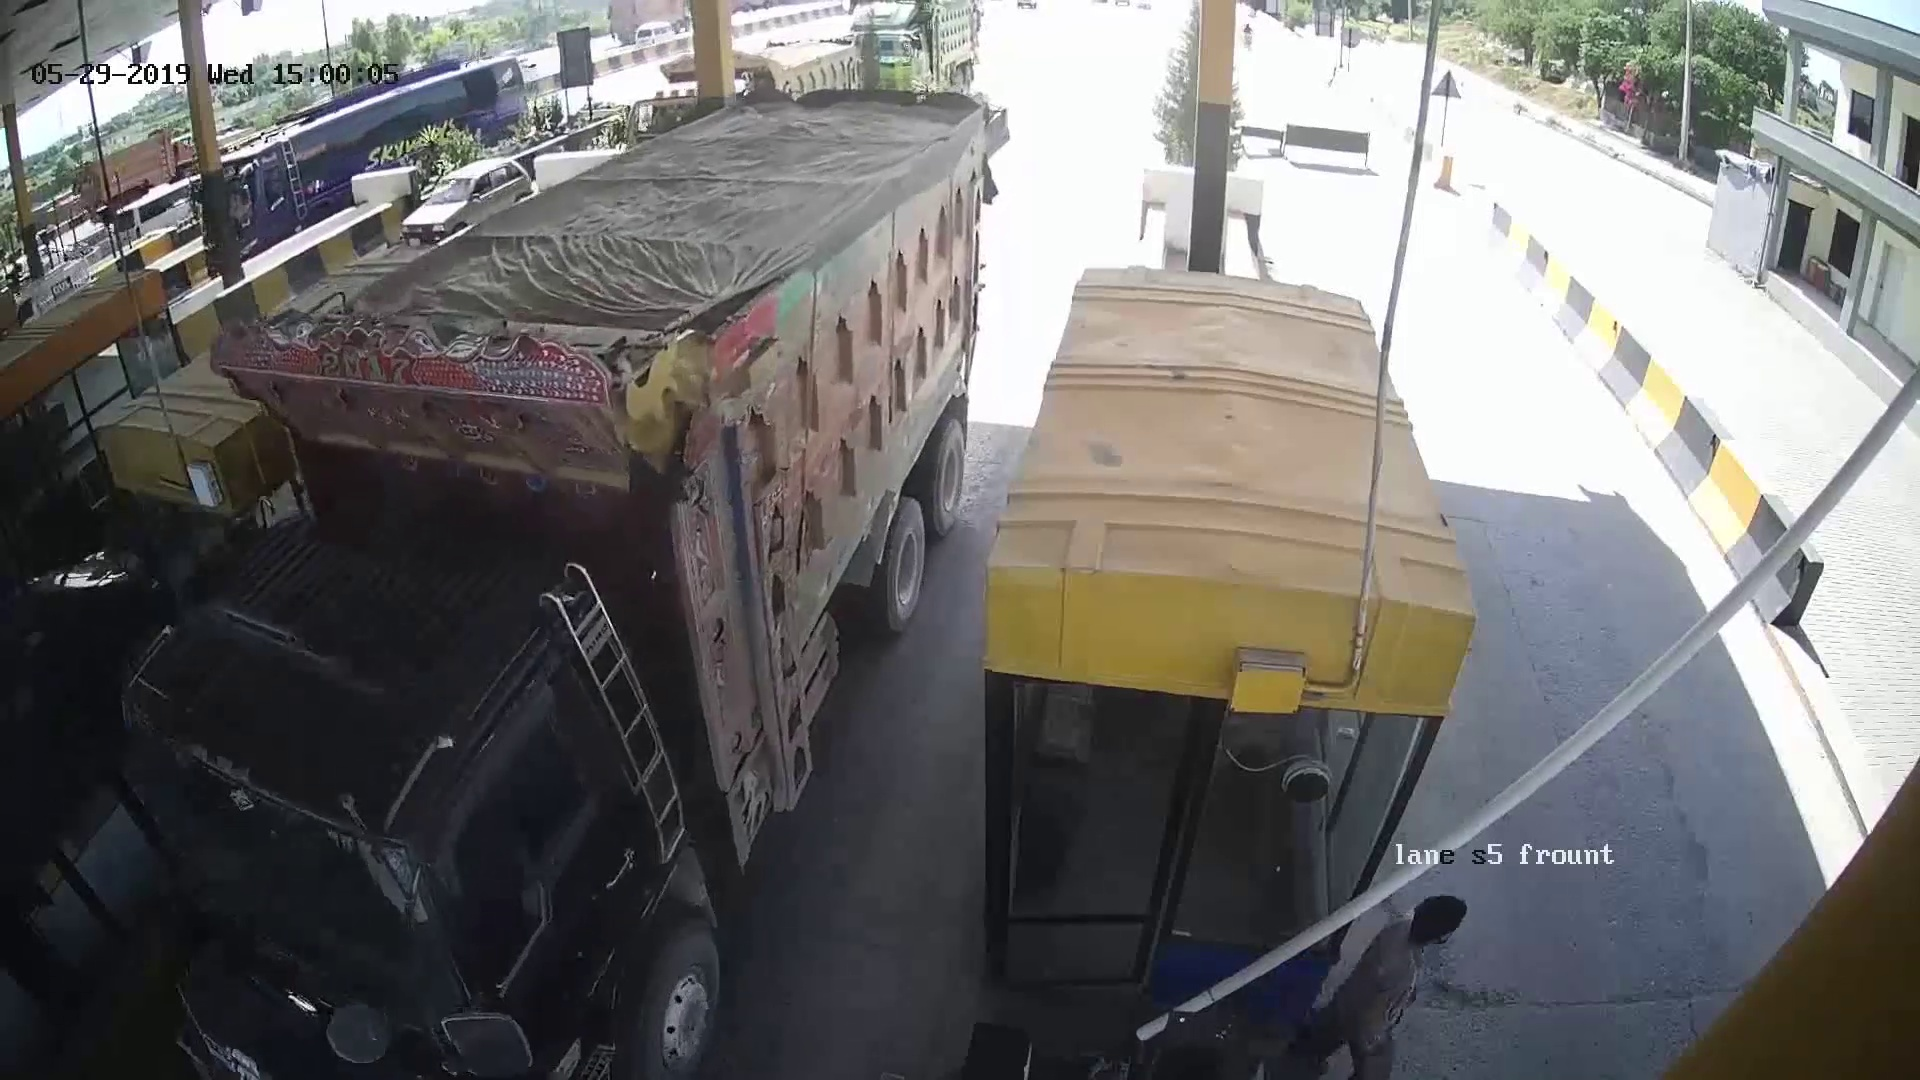truck: (203, 287, 796, 1058)
